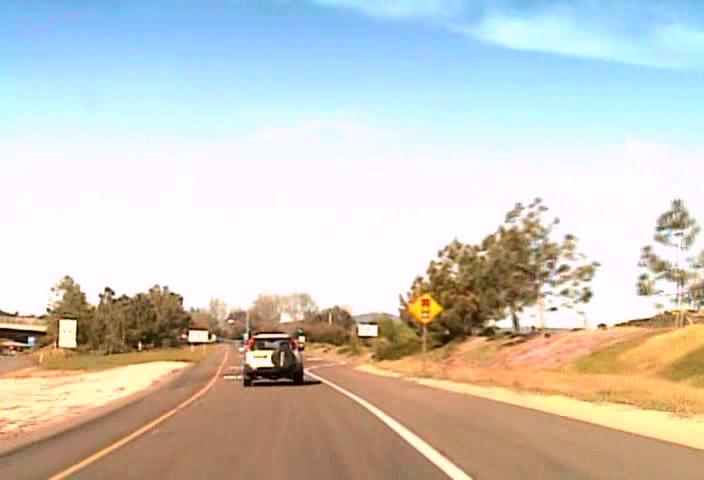signalAhead: (407, 291, 443, 325)
